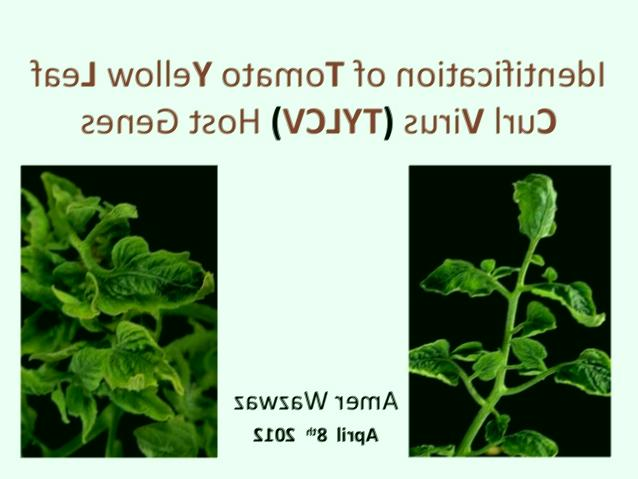Tomato leaf yellow virus: (76, 322, 191, 399), (94, 236, 209, 312), (513, 164, 562, 248), (415, 250, 504, 296), (532, 274, 608, 327)
